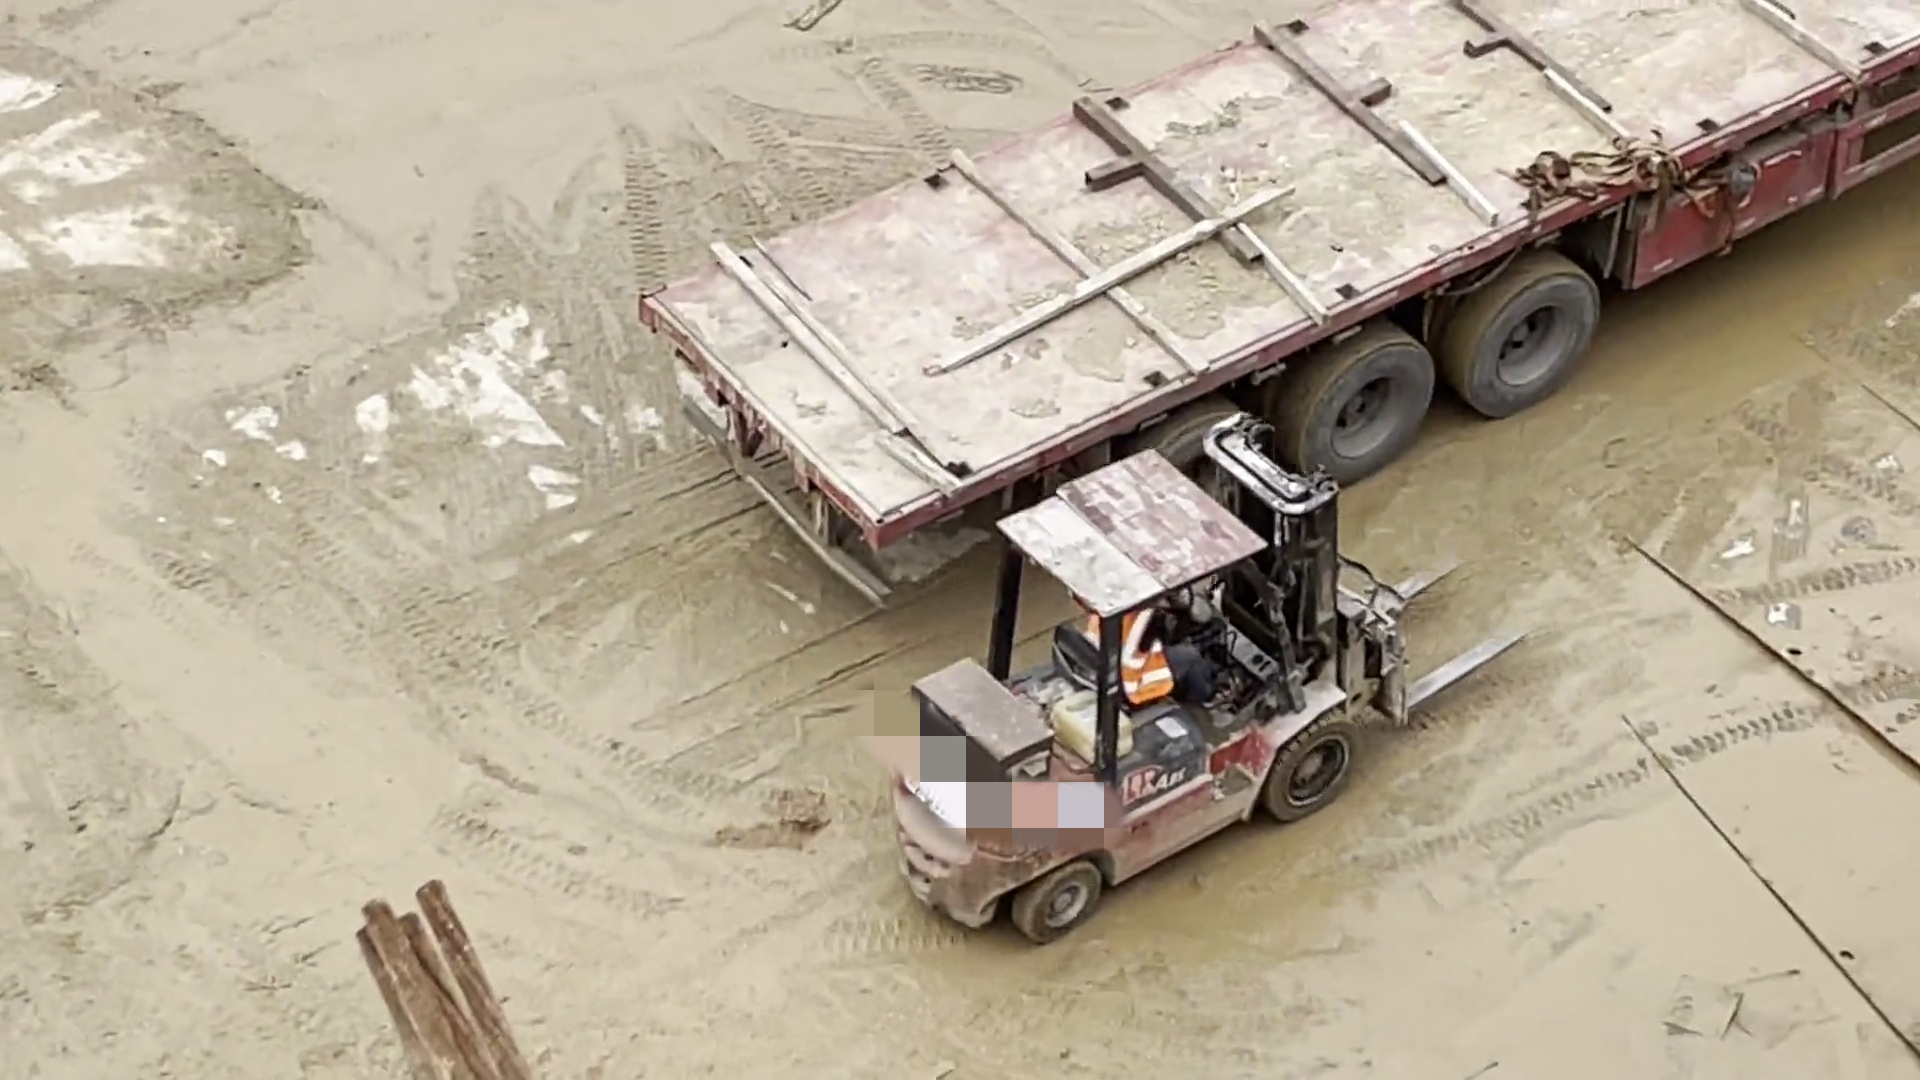person: (1087, 588, 1227, 724)
vest: (1088, 601, 1181, 711)
